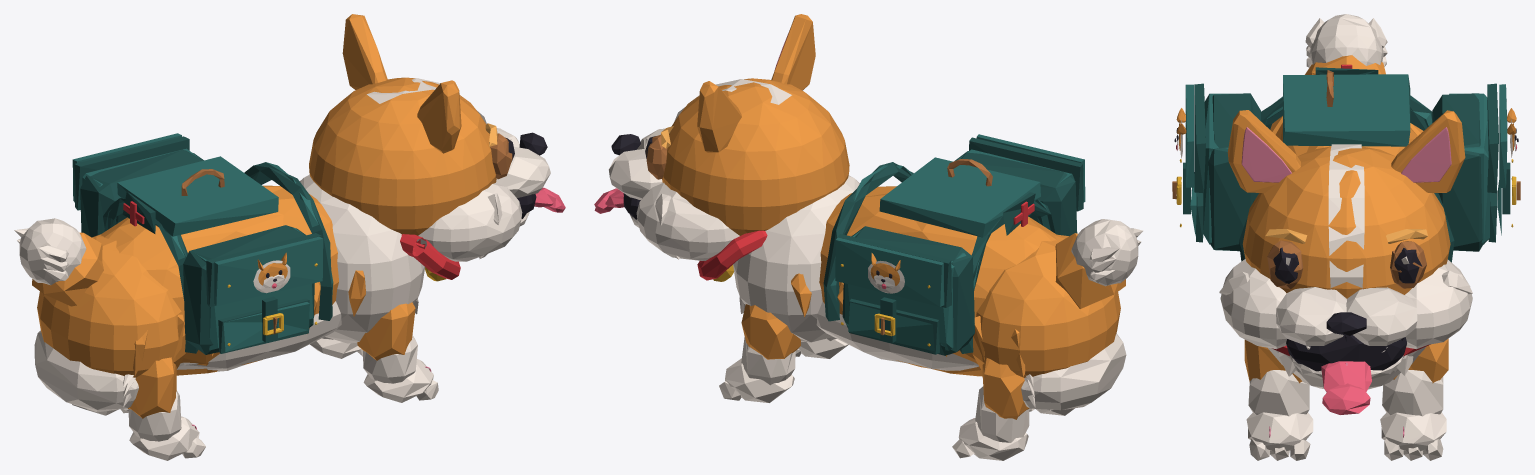
The model's file is char.corgi.lod1.glb.
The picture shows the model from 3 angles, left to right: view 1: azimuth 30°, elevation 25°; view 2: azimuth 150°, elevation 25°; view 3: azimuth 270°, elevation 25°; orthographic projection. The views are drawn at different scales.
Parts seen in each view (by area): view 1: body, head, packSocket, tail, legFR, legBR, legFL; view 2: body, head, packSocket, tail, legFL, legBL, legFR; view 3: head, packSocket, legFL, legFR, tail, body.
Boxes of the visible parts, bbox=[...] form: body: bbox=[34, 174, 460, 412]; head: bbox=[309, 14, 565, 261]; packSocket: bbox=[72, 133, 333, 354]; tail: bbox=[14, 218, 103, 306]; legFR: bbox=[357, 302, 438, 402]; legBR: bbox=[128, 357, 205, 460]; legFL: bbox=[310, 337, 362, 358]; body: bbox=[697, 175, 1126, 410]; head: bbox=[594, 14, 849, 260]; packSocket: bbox=[823, 134, 1085, 355]; tail: bbox=[1055, 219, 1143, 308]; legFL: bbox=[719, 304, 800, 402]; legBL: bbox=[952, 358, 1029, 460]; legFR: bbox=[795, 337, 848, 358]; head: bbox=[1219, 110, 1472, 414]; packSocket: bbox=[1172, 64, 1520, 262]; legFL: bbox=[1380, 338, 1448, 460]; legFR: bbox=[1244, 340, 1313, 460]; tail: bbox=[1305, 14, 1387, 74]; body: bbox=[1268, 116, 1430, 389].
Bounding box in the file's own units: 1.67 × 0.9485 × 0.8446.
